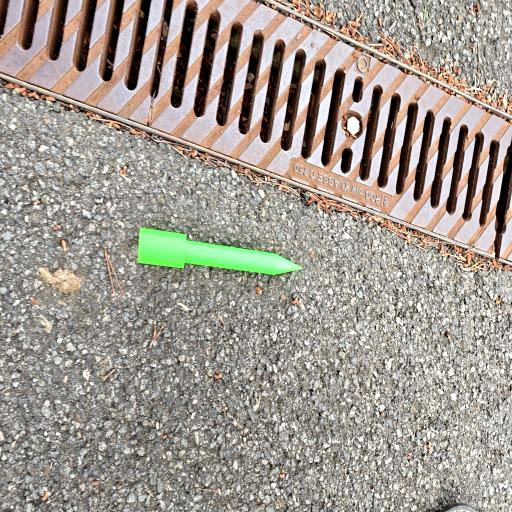Probe-Detection: (138, 228, 302, 275)
